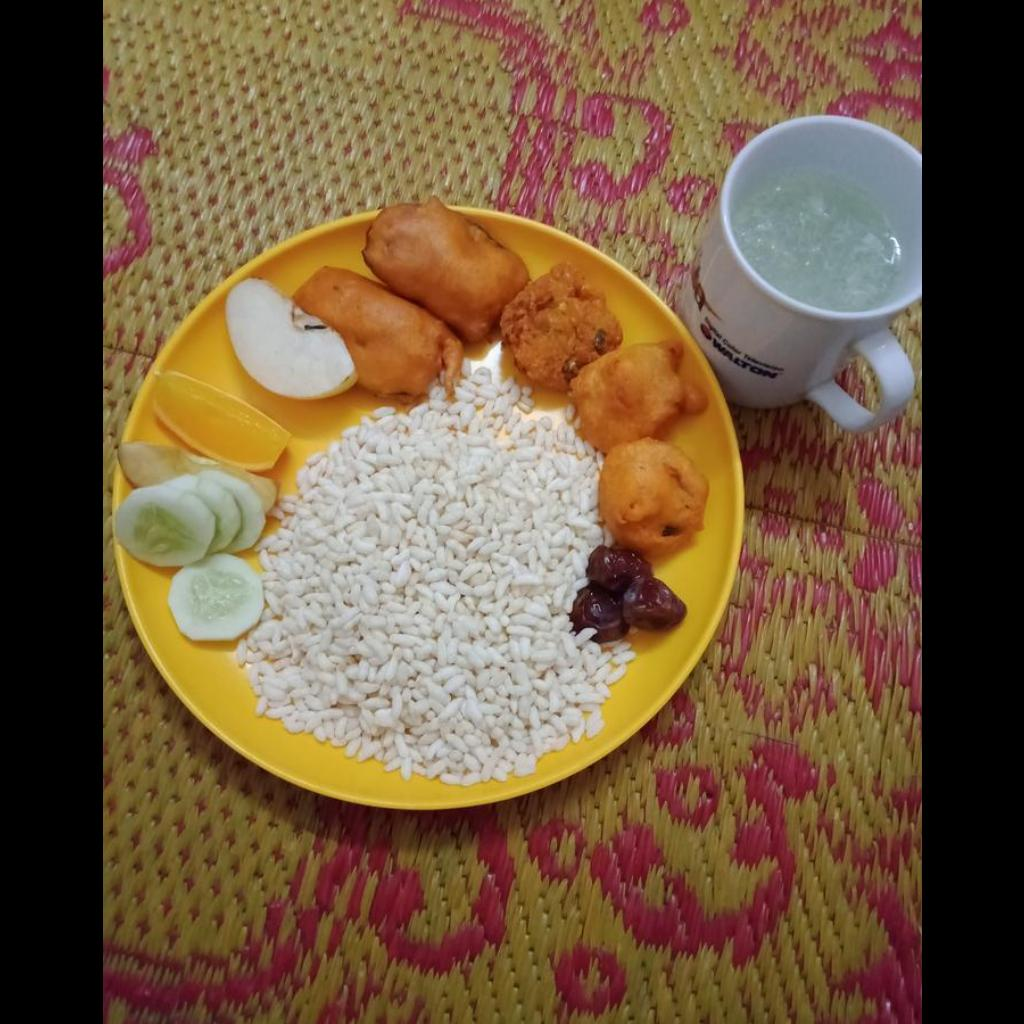apple: (222, 276, 355, 402)
beguni: (296, 196, 521, 393)
chop-alu: (567, 345, 702, 545)
cucumber: (120, 471, 274, 638)
dates: (578, 551, 687, 629)
juice: (739, 166, 906, 293)
lemon: (153, 364, 282, 467)
peyaju: (503, 266, 619, 384)
puffed-rice: (263, 393, 632, 775)
